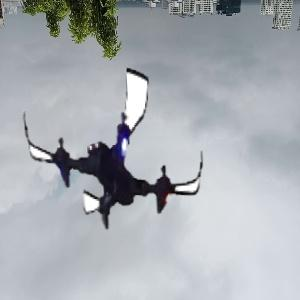drone: (20, 53, 210, 243)
